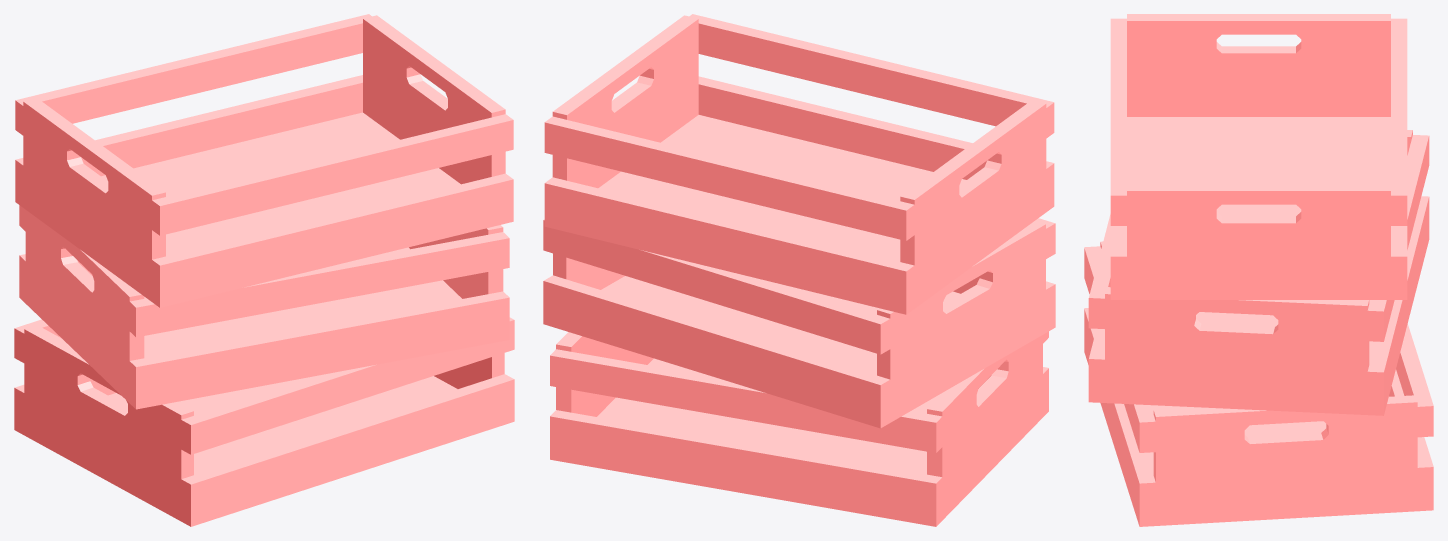
The model's file is GenericStorage.fbx.
3 renders of one model, left to right at view 1: azimuth 30°, elevation 25°; view 2: azimuth 150°, elevation 25°; view 3: azimuth 270°, elevation 25°, orthographic. The views are drawn at different scales.
Visible parts, largest first — view 1: Cube, Cube_003, Cube_002; view 2: Cube, Cube_002, Cube_003; view 3: Cube, Cube_002, Cube_003.
Boxes of the visible parts, x1=… form: Cube: x1=15, y1=14, x2=513, y2=307; Cube_003: x1=14, y1=317, x2=514, y2=526; Cube_002: x1=19, y1=205, x2=509, y2=409; Cube: x1=544, y1=14, x2=1054, y2=314; Cube_002: x1=543, y1=218, x2=1055, y2=428; Cube_003: x1=550, y1=331, x2=1048, y2=526; Cube: x1=1110, y1=14, x2=1407, y2=299; Cube_002: x1=1088, y1=130, x2=1429, y2=415; Cube_003: x1=1084, y1=241, x2=1433, y2=526.
Size of the model in its own units: 102 by 81.7 by 78.8.
